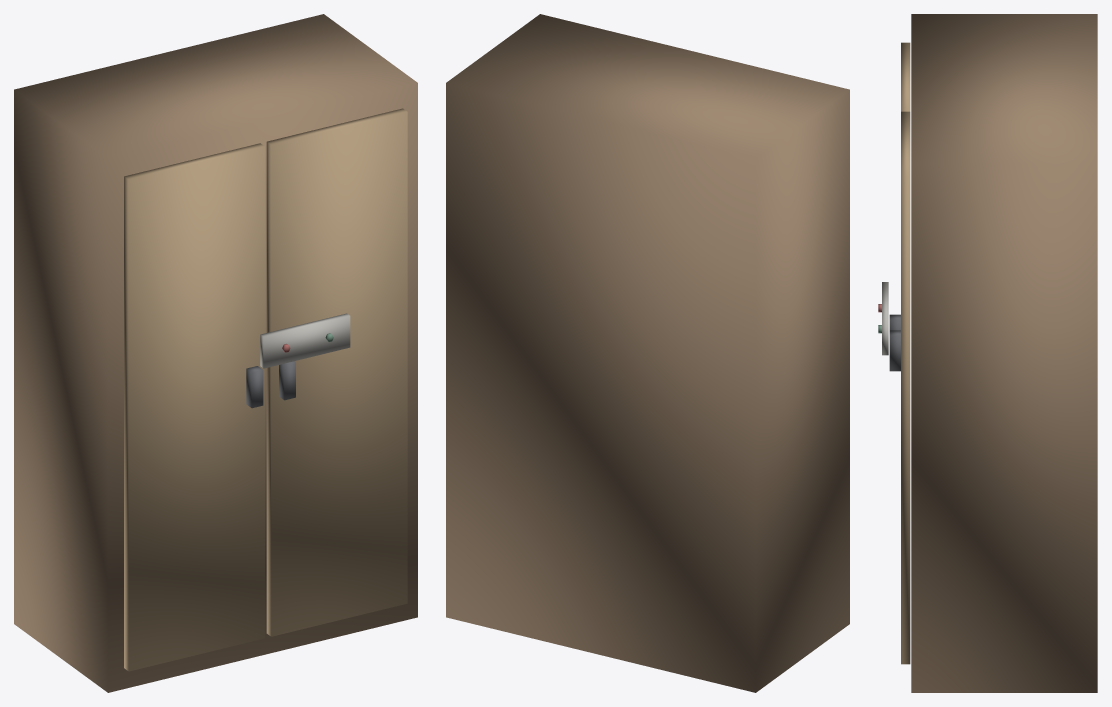
Rendered from evidence_cabinet__tall.glb.
3 views of the same model, side by side, from view 1: azimuth 30°, elevation 25°; view 2: azimuth 150°, elevation 25°; view 3: azimuth 270°, elevation 25° (orthographic).
Visible parts, largest first — view 1: world; view 2: world; view 3: world.
Boxes of the visible parts, box(x1,y1,x2,y2) form: world: box(14, 14, 417, 692); world: box(446, 14, 849, 692); world: box(878, 14, 1097, 692).
Bounding box in the file's own units: 0.95 × 1.57 × 0.5885.
